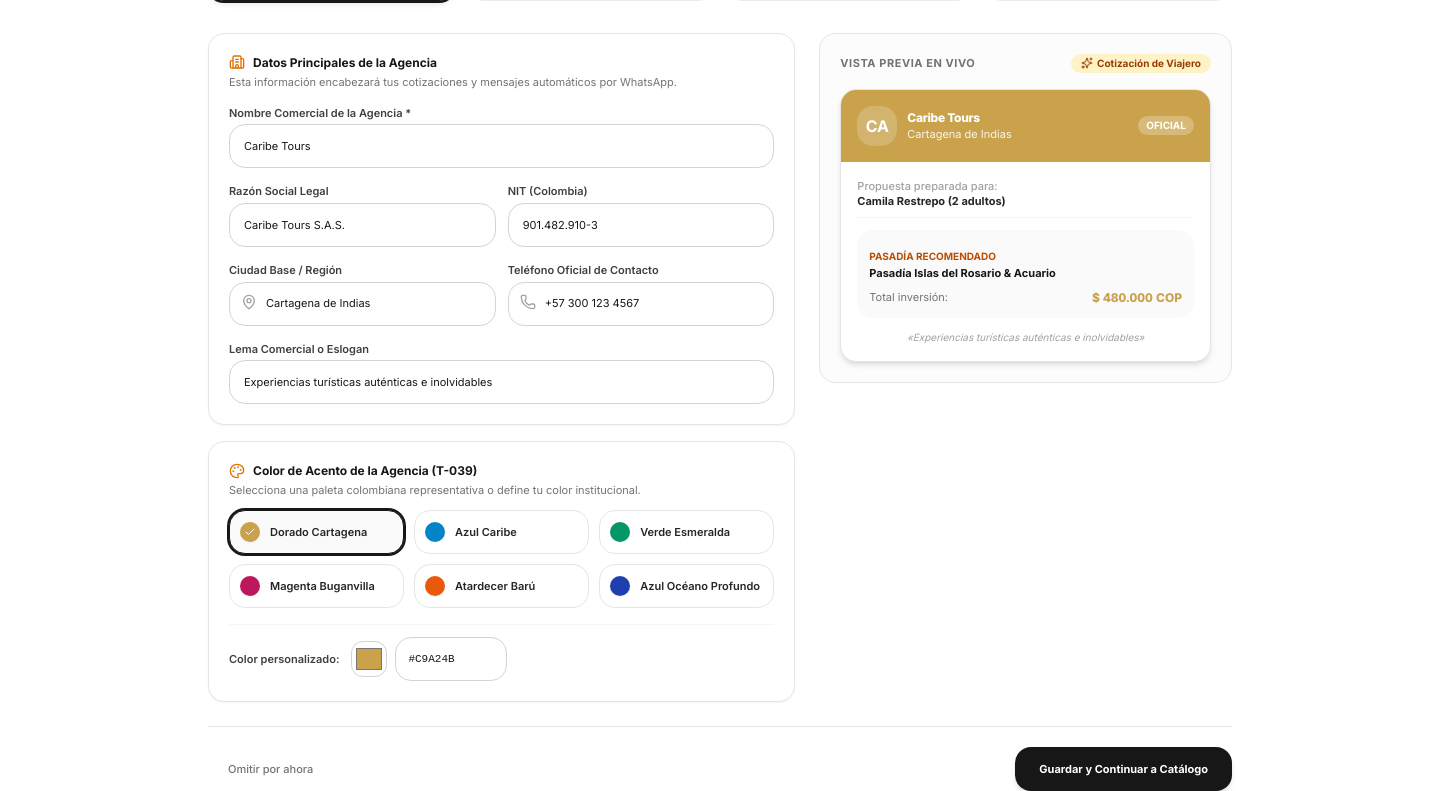
AsistenteOnboarding — Orquestador de 4 Pasos (T-105) › 3. Permite omitir un paso y avanzar al siguiente
(page scrolled)
Note: Omitir marca
Click the button with test id "btn-omitir-paso-marca" at point(271, 769), box [208,747,333,790]
(page scrolled)
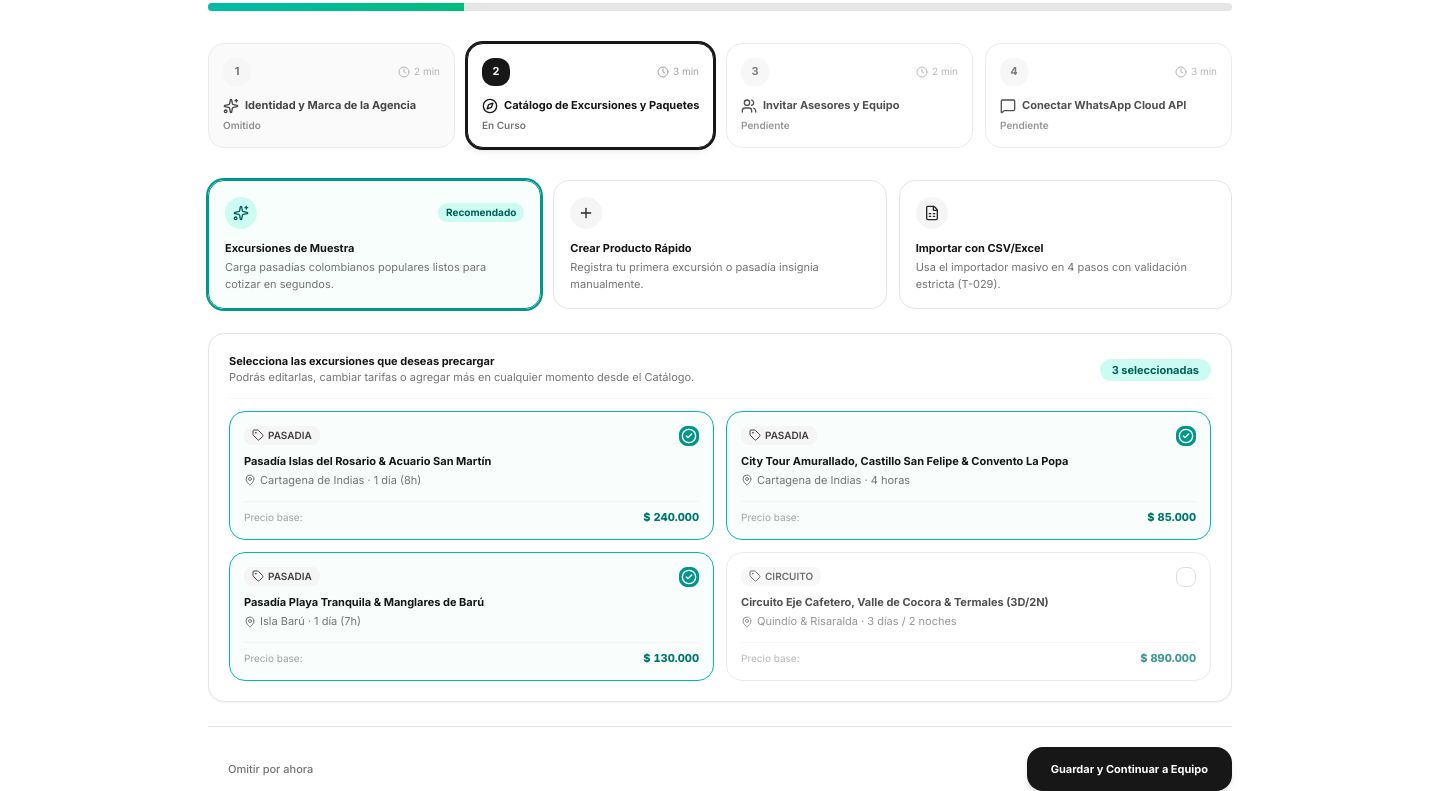
expect the form with test id "paso-catalogo-form" is shown: met, box [208,180,1232,790]
